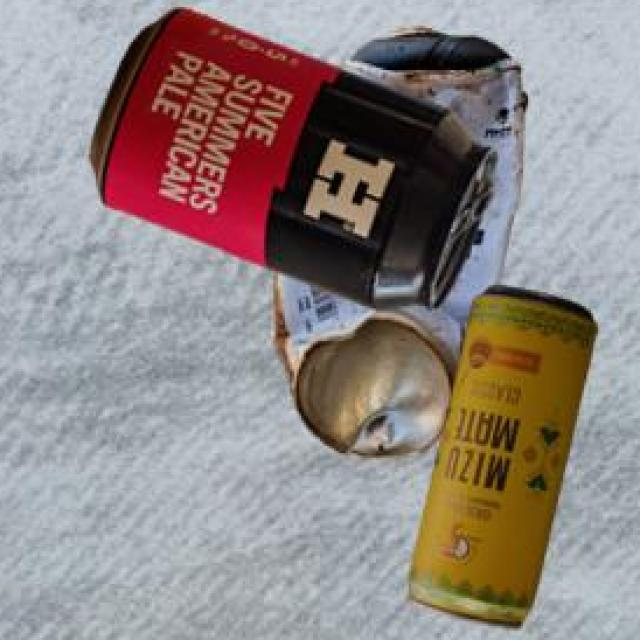logam: (95, 13, 501, 314), (274, 32, 531, 464), (412, 288, 601, 632)
